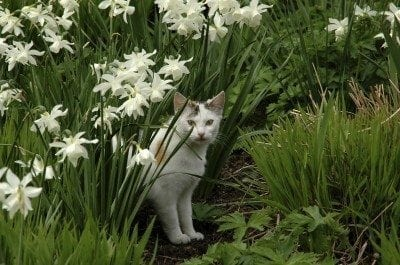cat: (122, 89, 227, 244)
